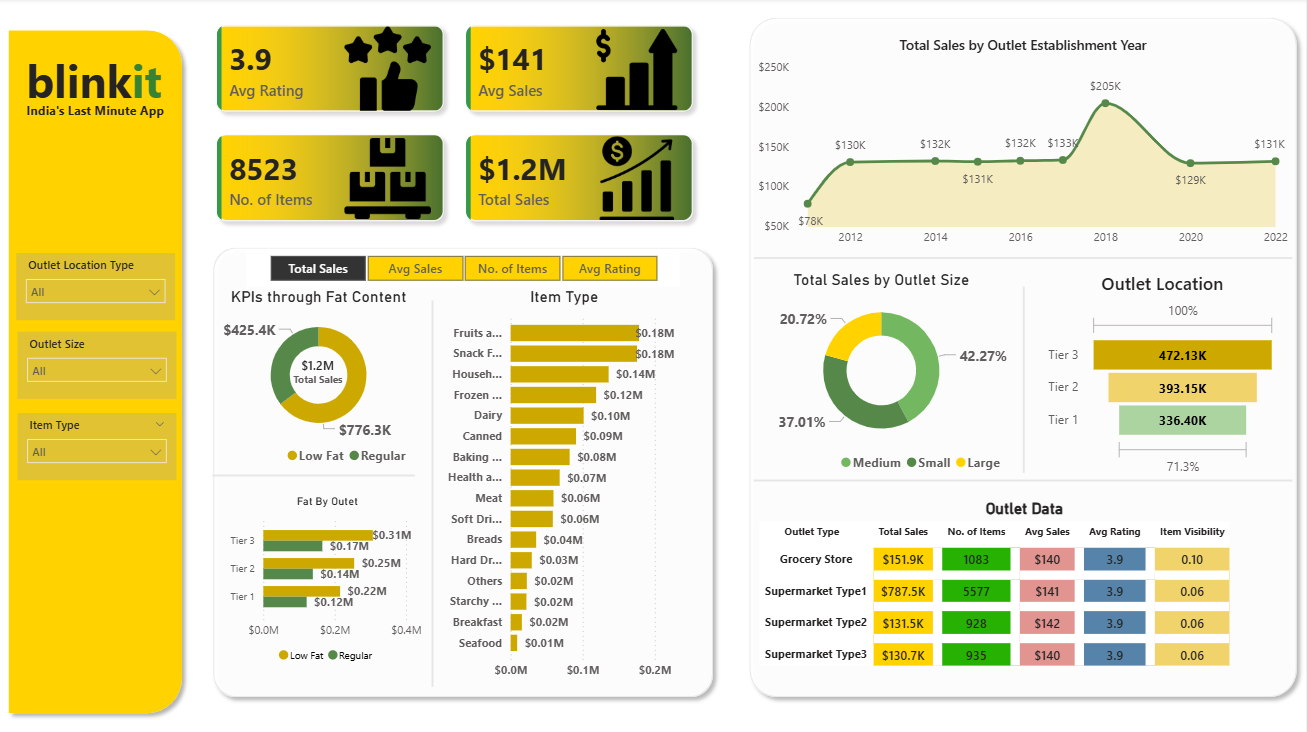

This screenshot's page, from the dashboard's own definition file:
{"tool":"powerbi","page":{"name":"Page 1","canvas":[1400,800],"ordinal":0},"visuals":[{"type":"shape","box":[0,25.5,204.1,750.4],"z":0},{"type":"textbox","box":[16.5,51,169.6,76.5],"z":1000},{"type":"textbox","box":[10.5,106.6,183.1,43.5],"z":2000},{"type":"cardVisual","fields":{"Data":["BlinkIT Grocery Data.Avg Rating","BlinkIT Grocery Data.Avg Sales","BlinkIT Grocery Data.No. of Items","BlinkIT Grocery Data.Total Sales"]},"box":[203.8,0,569.7,269.4],"z":4000},{"type":"shape","box":[219.8,258.7,553.6,500],"z":5000},{"type":"donutChart","title":"KPIs through Fat Content","fields":{"Y":["BlinkIT Grocery Data.Total Sales"],"Category":["BlinkIT Grocery Data.Item Fat Content"]},"box":[238.6,309.7,206.4,199.7],"z":6000},{"type":"slicer","fields":{"Values":["Metrics.Metrics"]},"box":[264.1,269.4,465.1,40.2],"z":7000},{"type":"cardVisual","fields":{"Data":["BlinkIT Grocery Data.Total Sales"]},"box":[282.8,357.9,116.6,84.5],"z":8000},{"type":"clusteredBarChart","title":"Fat By Outet","fields":{"Y":["BlinkIT Grocery Data.Total Sales"],"Category":["BlinkIT Grocery Data.Outlet Location Type"],"Series":["BlinkIT Grocery Data.Item Fat Content"]},"box":[238.6,532.2,225.2,190.3],"z":9000},{"type":"shape","box":[227.9,492,217.2,40.2],"z":10000},{"type":"shape","box":[442.4,324.4,42.9,414.2],"z":11000},{"type":"barChart","title":"Item Type","fields":{"Y":["BlinkIT Grocery Data.Total Sales"],"Category":["BlinkIT Grocery Data.Item Type"]},"box":[463.8,309.7,282.8,429],"z":12000},{"type":"shape","box":[794.9,12.1,604.6,746.7],"z":13000},{"type":"lineChart","fields":{"Category":["BlinkIT Grocery Data.Outlet Establishment Year"],"Y":["BlinkIT Grocery Data.Total Sales"]},"box":[808.3,40.2,577.8,234.6],"z":14000},{"type":"shape","box":[808.3,258.7,577.8,40.2],"z":14001},{"type":"donutChart","title":"Total Sales by Outlet Size","fields":{"Y":["BlinkIT Grocery Data.Total Sales"],"Category":["BlinkIT Grocery Data.Outlet Size"]},"box":[808.3,292.2,274,225],"z":14002},{"type":"shape","box":[1076.4,309.7,42.9,199.7],"z":14003},{"type":"funnel","title":"Outlet Location","fields":{"Y":["Sum(BlinkIT Grocery Data.Sales)"],"Category":["BlinkIT Grocery Data.Outlet Location Type"]},"box":[1119.3,293.6,254.7,223.9],"z":14004},{"type":"shape","box":[808.3,497.3,577.8,40.2],"z":14005},{"type":"pivotTable","title":"Outlet Data","fields":{"Rows":["BlinkIT Grocery Data.Outlet Type"],"Values":["BlinkIT Grocery Data.Total Sales","BlinkIT Grocery Data.No. of Items","BlinkIT Grocery Data.Avg Sales","BlinkIT Grocery Data.Avg Rating","Avg(BlinkIT Grocery Data.Item Visibility)"]},"box":[809.7,537.5,577.8,198.4],"z":14006},{"type":"slicer","fields":{"Values":["BlinkIT Grocery Data.Outlet Location Type"]},"box":[17.4,273.5,170.2,72.4],"z":14007},{"type":"slicer","fields":{"Values":["BlinkIT Grocery Data.Outlet Size"]},"box":[18.8,357.9,170.2,72.4],"z":14008},{"type":"slicer","fields":{"Values":["BlinkIT Grocery Data.Item Type"]},"box":[18.8,445,170.2,72.4],"z":14009}]}

Visuals, with their boxes in screenshot pixels (x1, y1, x2, y2), scaled from the page's 1400x800 canvas onto the 1307x732 screenshot:
shape: pyautogui.locateOnScreen(0, 23, 191, 710)
textbox: pyautogui.locateOnScreen(15, 47, 174, 117)
textbox: pyautogui.locateOnScreen(10, 98, 181, 137)
cardVisual - BlinkIT Grocery Data.Avg Rating x BlinkIT Grocery Data.Avg Sales: pyautogui.locateOnScreen(190, 0, 722, 247)
shape: pyautogui.locateOnScreen(205, 237, 722, 694)
"KPIs through Fat Content" donutChart: pyautogui.locateOnScreen(223, 283, 415, 466)
slicer - Metrics.Metrics: pyautogui.locateOnScreen(247, 247, 681, 283)
cardVisual - BlinkIT Grocery Data.Total Sales: pyautogui.locateOnScreen(264, 327, 373, 405)
"Fat By Outet" clusteredBarChart: pyautogui.locateOnScreen(223, 487, 433, 661)
shape: pyautogui.locateOnScreen(213, 450, 416, 487)
shape: pyautogui.locateOnScreen(413, 297, 453, 676)
"Item Type" barChart: pyautogui.locateOnScreen(433, 283, 697, 676)
shape: pyautogui.locateOnScreen(742, 11, 1306, 694)
lineChart - BlinkIT Grocery Data.Outlet Establishment Year x BlinkIT Grocery Data.Total Sales: pyautogui.locateOnScreen(755, 37, 1294, 251)
shape: pyautogui.locateOnScreen(755, 237, 1294, 273)
"Total Sales by Outlet Size" donutChart: pyautogui.locateOnScreen(755, 267, 1010, 473)
shape: pyautogui.locateOnScreen(1005, 283, 1045, 466)
"Outlet Location" funnel: pyautogui.locateOnScreen(1045, 269, 1283, 474)
shape: pyautogui.locateOnScreen(755, 455, 1294, 492)
"Outlet Data" pivotTable: pyautogui.locateOnScreen(756, 492, 1295, 673)
slicer - BlinkIT Grocery Data.Outlet Location Type: pyautogui.locateOnScreen(16, 250, 175, 316)
slicer - BlinkIT Grocery Data.Outlet Size: pyautogui.locateOnScreen(18, 327, 176, 394)
slicer - BlinkIT Grocery Data.Item Type: pyautogui.locateOnScreen(18, 407, 176, 473)
